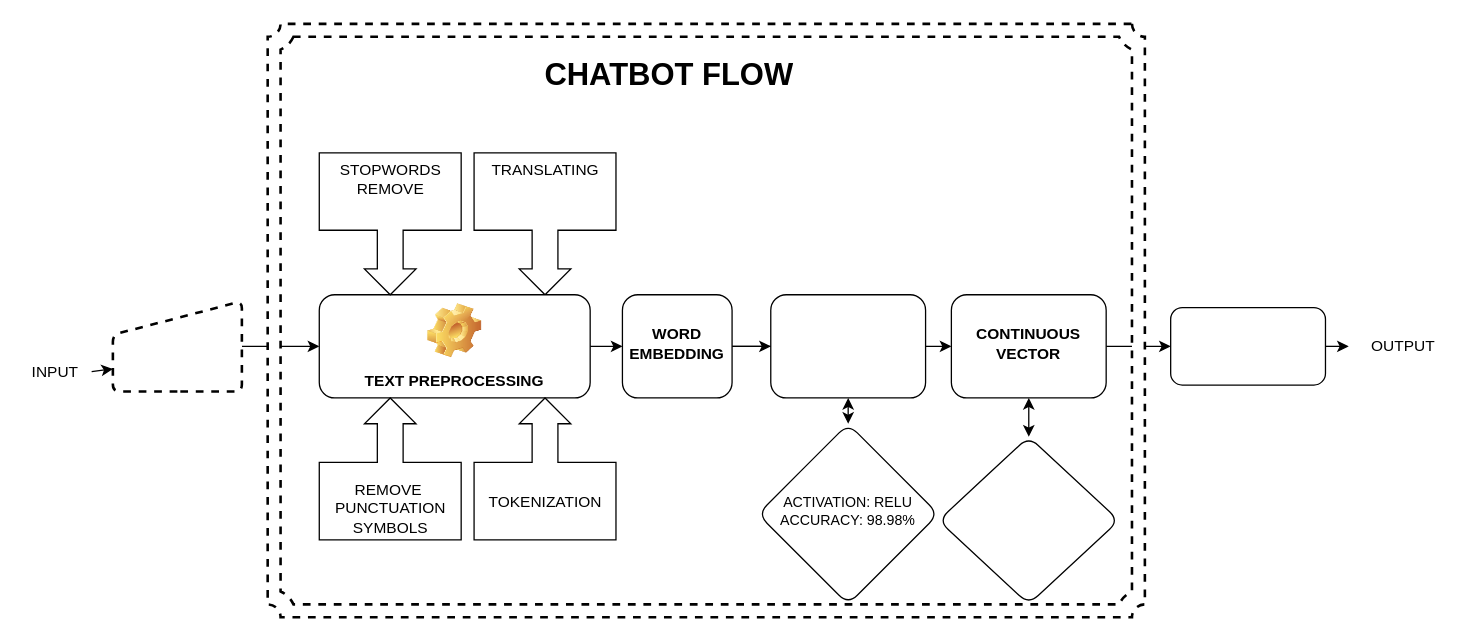
Image size: 1463x640. Some labels were removed from this diagram. Each missing label, with the centre of its shape:
ANSWER: [1247,345]
CLASSIFICATION MODEL: [847,345]
CLIENT QUESTION: [177,345]
SEARCHING BEST COSINE SIMILARITY: [1028,519]
